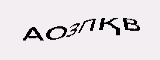Д: (54, 32, 77, 50)
Е: (34, 27, 52, 47)
С: (74, 26, 94, 45)
Т: (109, 20, 123, 38)
Ю: (91, 22, 111, 42)
